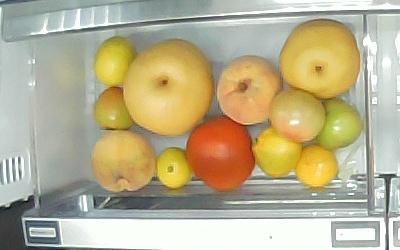peach: (216, 55, 280, 125), (90, 130, 156, 193)
pear: (122, 37, 216, 137), (278, 19, 360, 98)
tangerine: (253, 127, 302, 177), (96, 35, 136, 87), (296, 144, 339, 187), (155, 147, 191, 189)
tomato: (185, 117, 256, 193), (269, 91, 326, 144), (316, 97, 362, 150), (94, 87, 132, 130)
